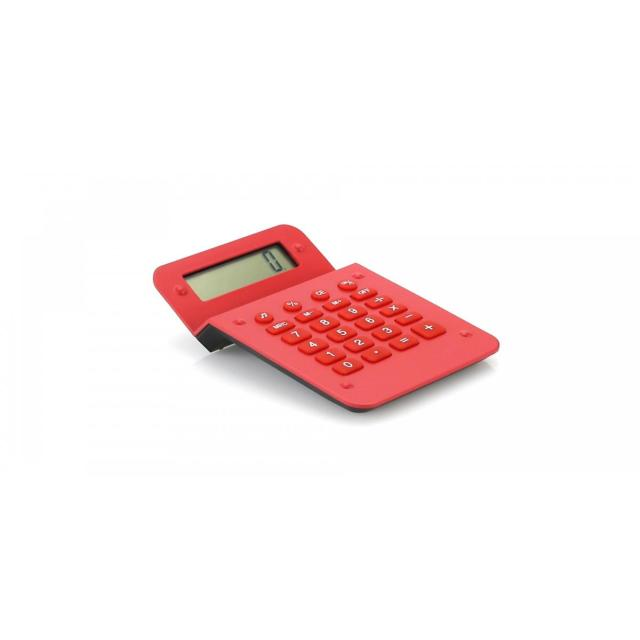Calculator: (118, 140, 540, 443)
